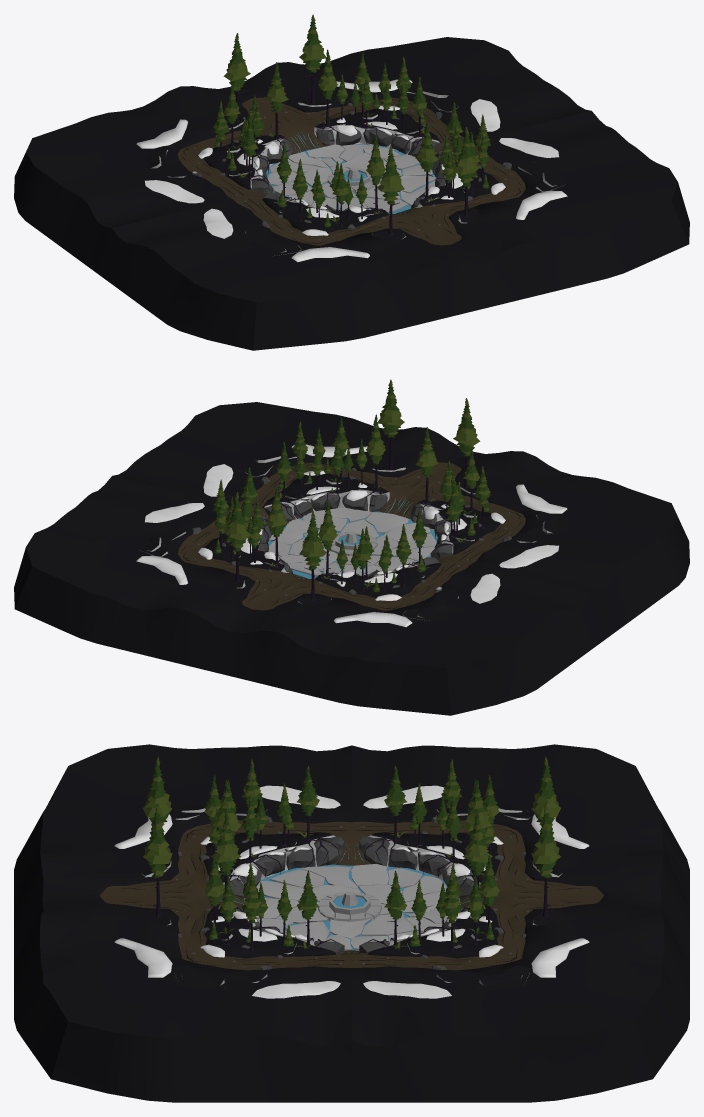
File: Map_02.FBX
3 views of the same model, one above another, from view 1: azimuth 30°, elevation 25°; view 2: azimuth 150°, elevation 25°; view 3: azimuth 270°, elevation 25° (orthographic). The views are drawn at different scales.
Visible parts, largest first — view 1: Map; view 2: Map; view 3: Map.
Boxes of the visible parts, x1,y1,x2,y2 form: Map: (14,14,689,350); Map: (14,379,689,715); Map: (14,744,689,1102).
Size of the model in its own units: 1142 by 279 by 1035.
